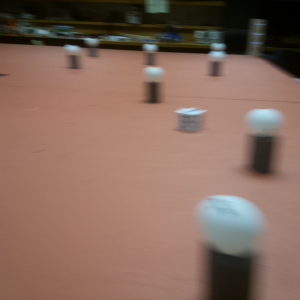corner: (248, 17, 264, 59)
obstacle: (196, 193, 261, 300), (241, 104, 282, 177), (143, 64, 162, 103), (207, 50, 227, 78), (65, 41, 83, 72), (87, 37, 102, 60), (144, 42, 157, 66), (213, 42, 225, 54)
